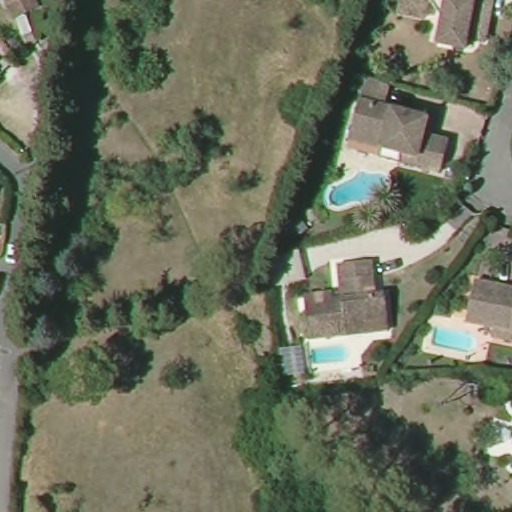pool: (322, 166, 398, 215), (426, 315, 477, 357), (304, 339, 352, 368)
